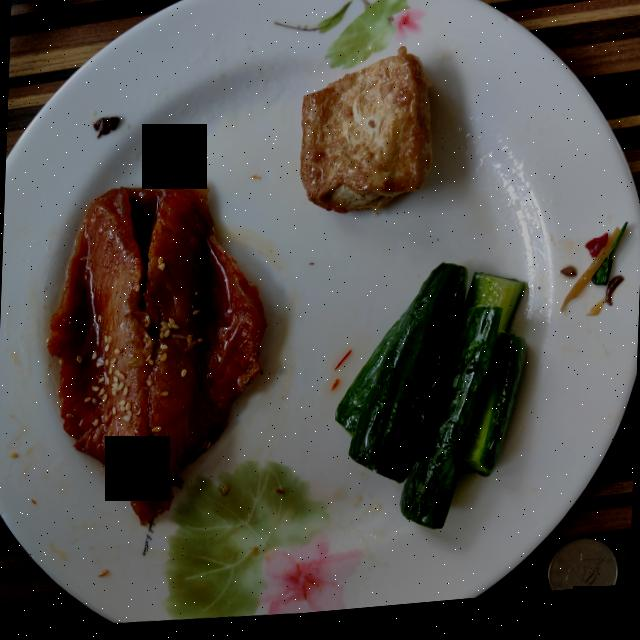Kabayaki sea bream fillet: (48, 183, 265, 525)
coin: (547, 548, 618, 601)
cucumber: (336, 270, 524, 535)
